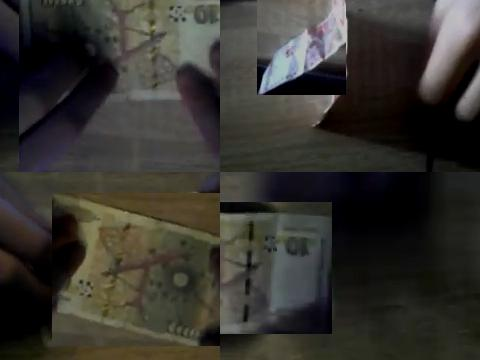10leva: (52, 193, 220, 346), (220, 210, 332, 334)
5leva: (257, 0, 346, 95)
